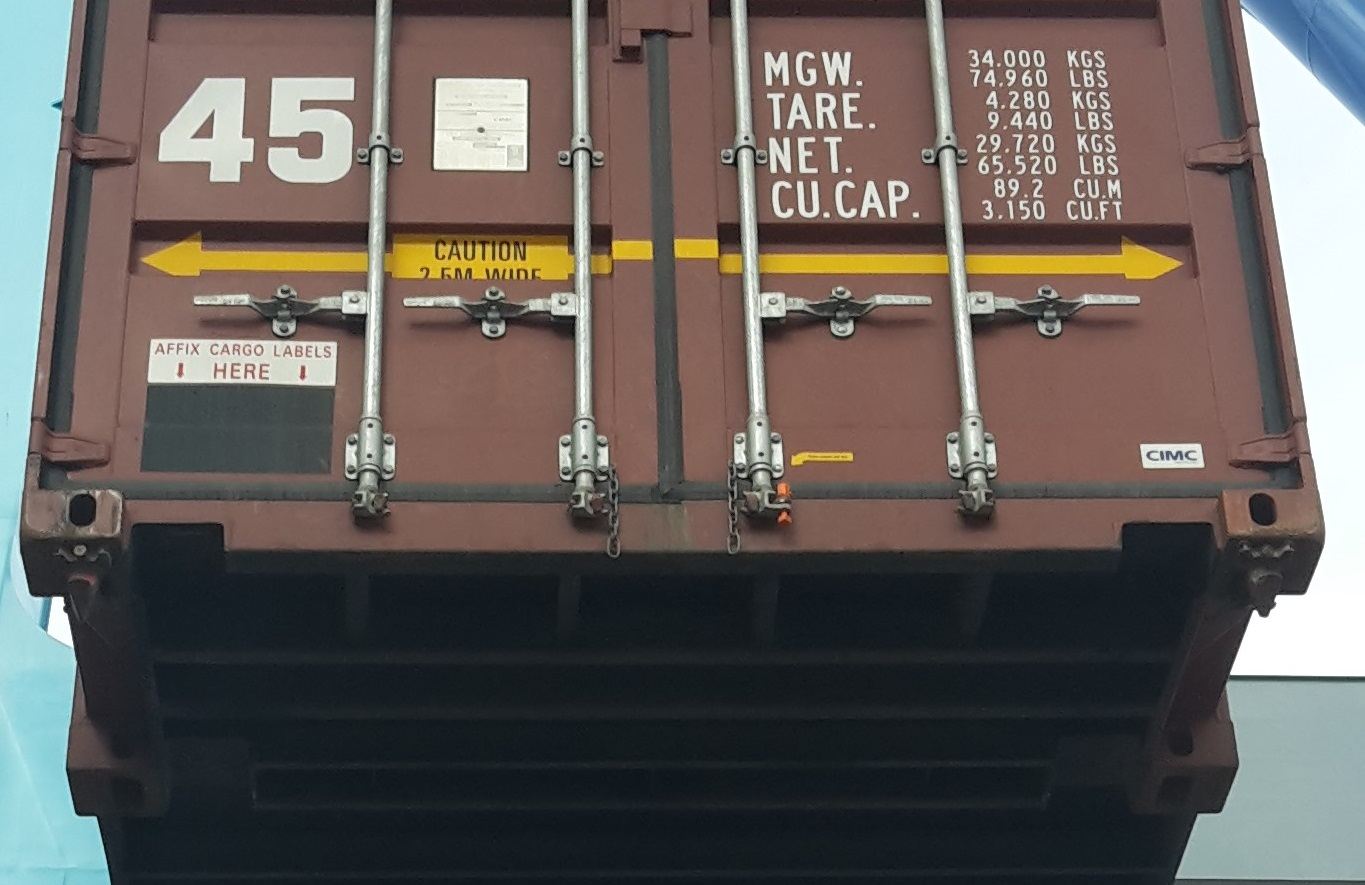container_door: (13, 1, 1329, 577)
